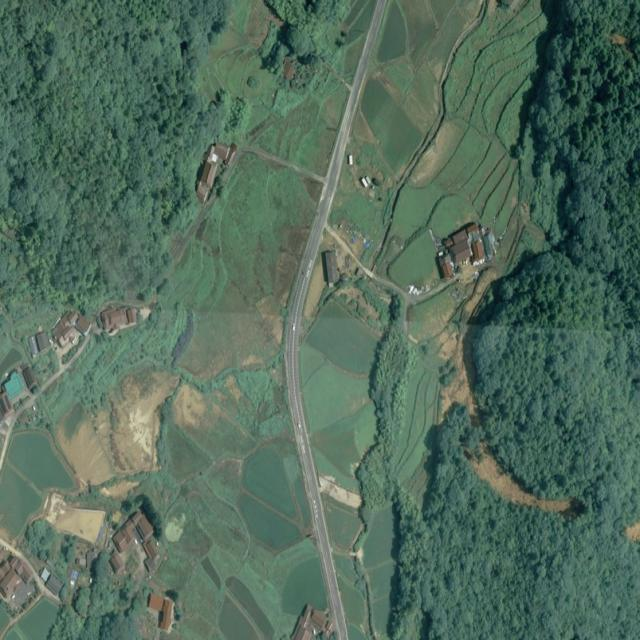landslide: (56, 368, 179, 485), (110, 368, 179, 472), (472, 446, 572, 514), (471, 451, 572, 513), (442, 339, 478, 422), (630, 524, 640, 542)
